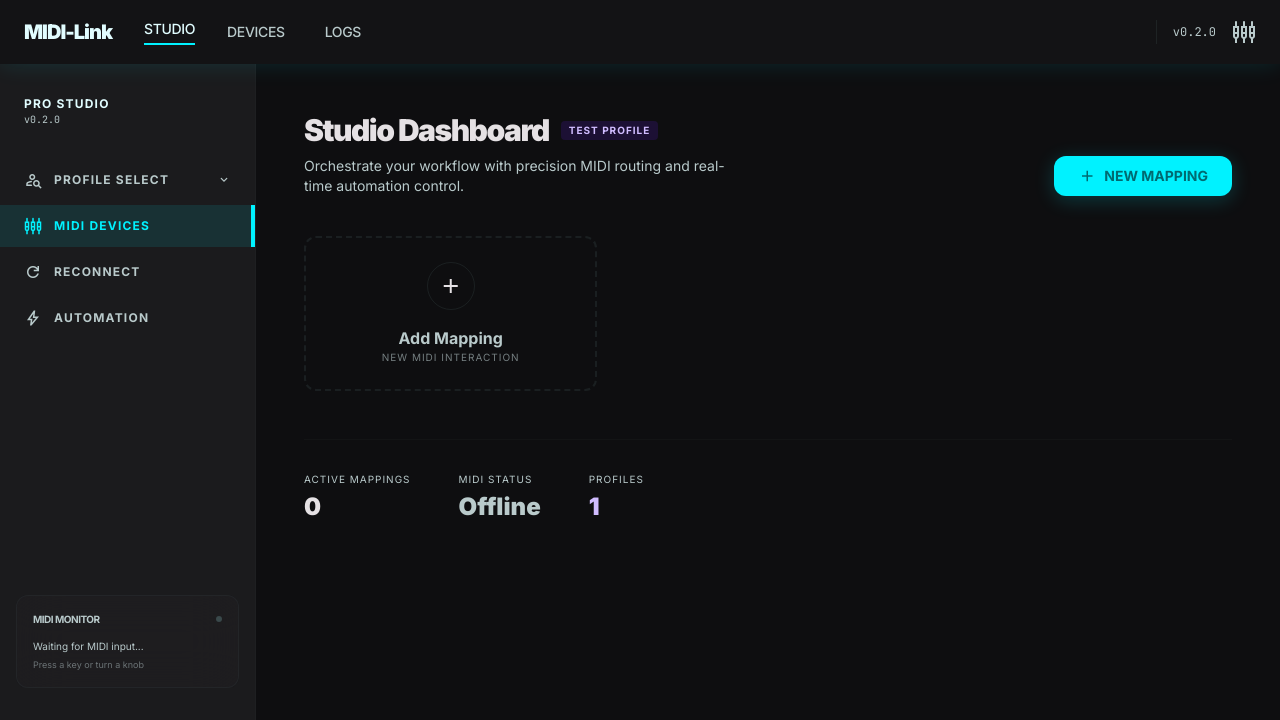
it: Full Mapping Flow › opens MIDI value selector when clicking Add Mapping
Click the text "Add Mapping". click: point(451, 338)
box: [398, 328, 503, 348]
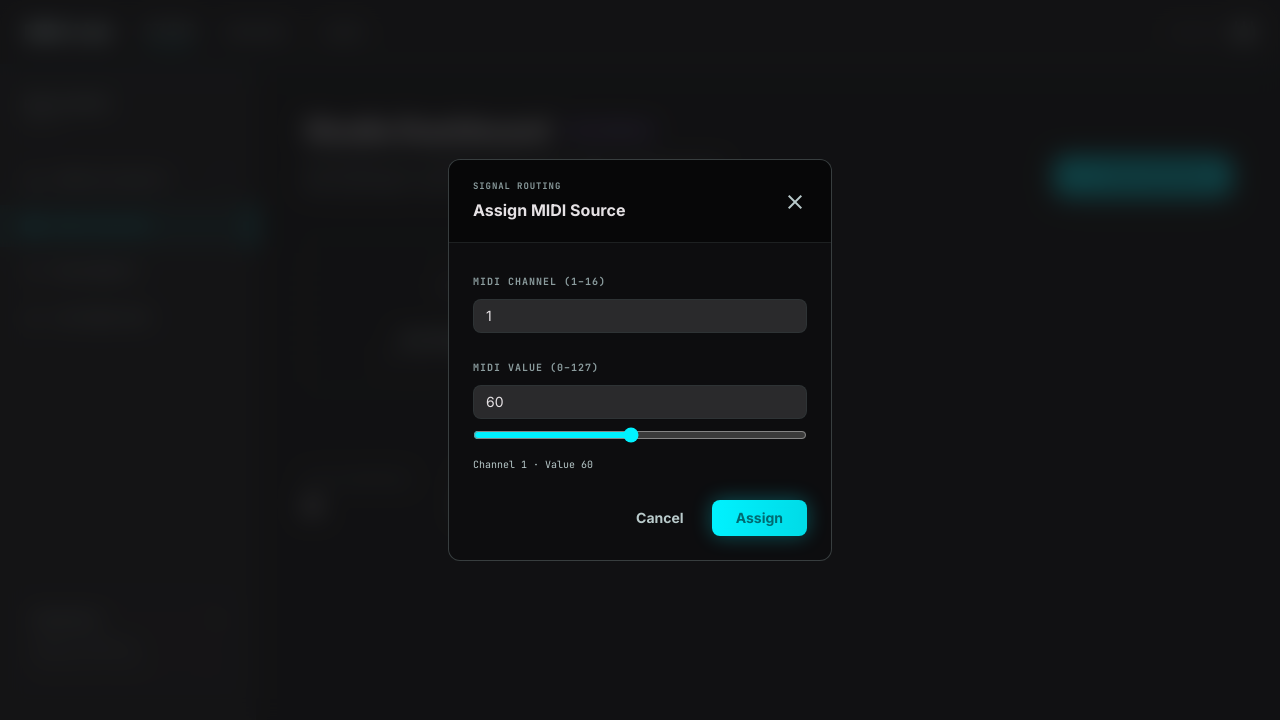
Expected: the heading "Assign MIDI Source" is shown, [473, 198, 625, 222]
